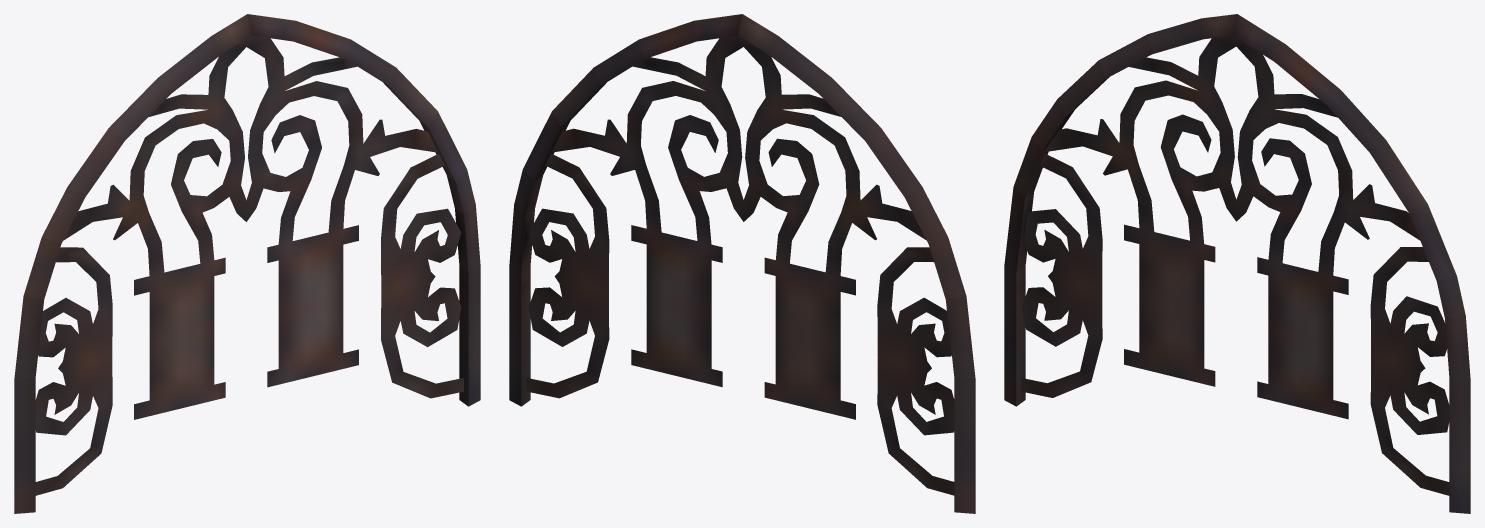
File: SM_zhucheng_CastleArch_Iron_01.FBX
3 views of the same model, side by side, from view 1: azimuth 30°, elevation 25°; view 2: azimuth 150°, elevation 25°; view 3: azimuth 330°, elevation 25° (orthographic).
Visible parts, largest first — view 1: SM_zhucheng_CastleArch_Iron_01; view 2: SM_zhucheng_CastleArch_Iron_01; view 3: SM_zhucheng_CastleArch_Iron_01.
Part boxes in pixels (x1=…): SM_zhucheng_CastleArch_Iron_01: x1=14, y1=14, x2=480, y2=513; SM_zhucheng_CastleArch_Iron_01: x1=509, y1=14, x2=975, y2=513; SM_zhucheng_CastleArch_Iron_01: x1=1004, y1=14, x2=1470, y2=513.
Bounding box in the file's own units: 63.44 × 57.62 × 2.16.
